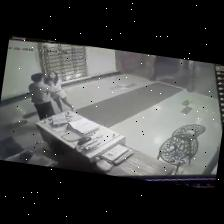person: (29, 73, 54, 119), (46, 72, 74, 112)
